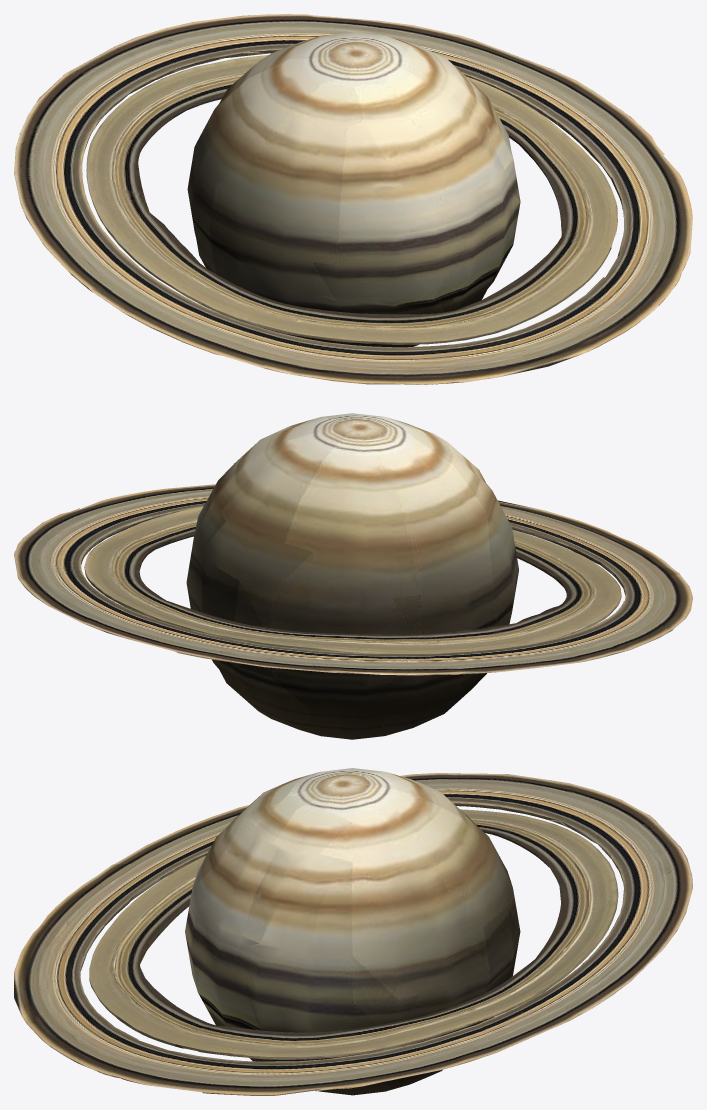
Rendered from solar-saturn.glb.
The picture shows the model from 3 angles, top to bottom: view 1: azimuth 30°, elevation 25°; view 2: azimuth 150°, elevation 25°; view 3: azimuth 270°, elevation 25°; orthographic projection.
Bounding box in the file's own units: 1.9 × 0.9011 × 1.88.
1 material, 1 textured.
